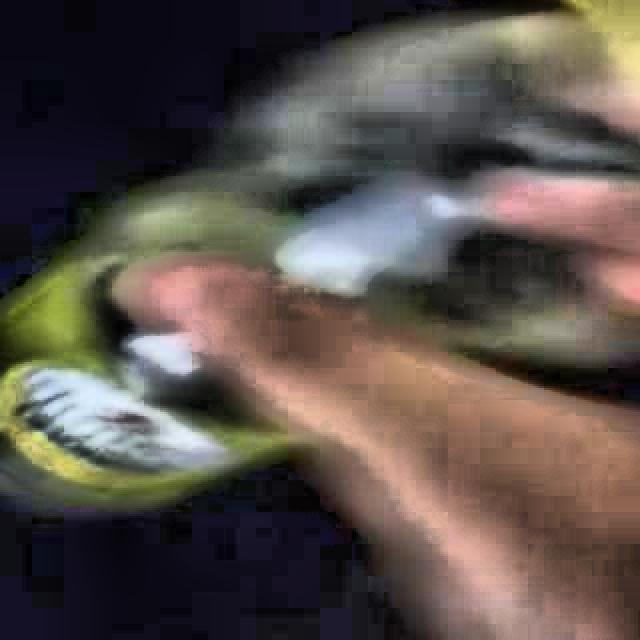plastic: (0, 16, 640, 506)
